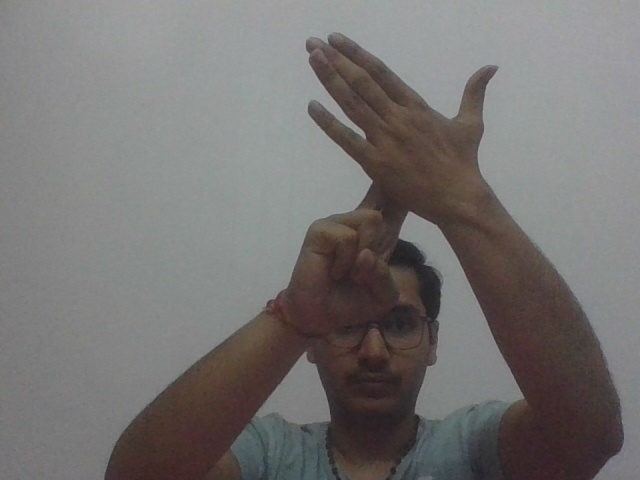N: (297, 31, 500, 255)
